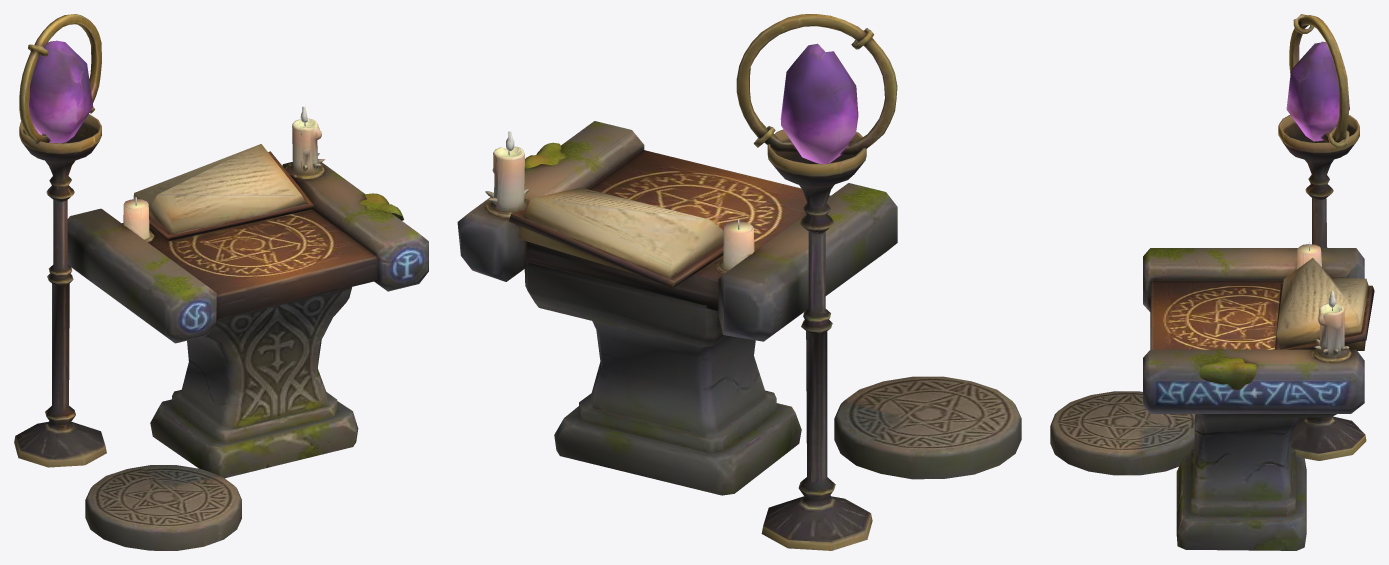
The model's file is station_enchanting_altar.glb.
3 renders of one model, left to right at view 1: azimuth 30°, elevation 25°; view 2: azimuth 150°, elevation 25°; view 3: azimuth 270°, elevation 25°, orthographic. The views are drawn at different scales.
Visible parts, largest first — view 1: tripo_node_fbf7554e-72ef-4b10-a774-a595d21a189f; view 2: tripo_node_fbf7554e-72ef-4b10-a774-a595d21a189f; view 3: tripo_node_fbf7554e-72ef-4b10-a774-a595d21a189f.
Part boxes in pixels (x1,y1,x2,y2): tripo_node_fbf7554e-72ef-4b10-a774-a595d21a189f: (14, 14, 428, 550); tripo_node_fbf7554e-72ef-4b10-a774-a595d21a189f: (457, 14, 1021, 550); tripo_node_fbf7554e-72ef-4b10-a774-a595d21a189f: (1050, 14, 1374, 550).
Bounding box in the file's own units: 2.2 × 2.6 × 1.82.
1 material, 1 textured.
